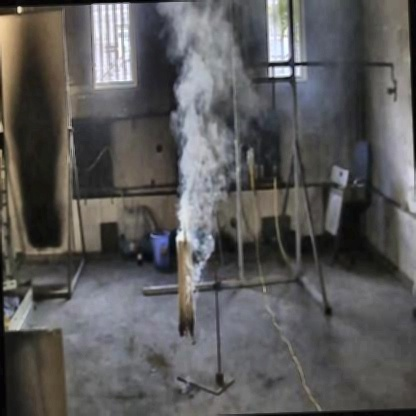smoke: (146, 0, 243, 289)
